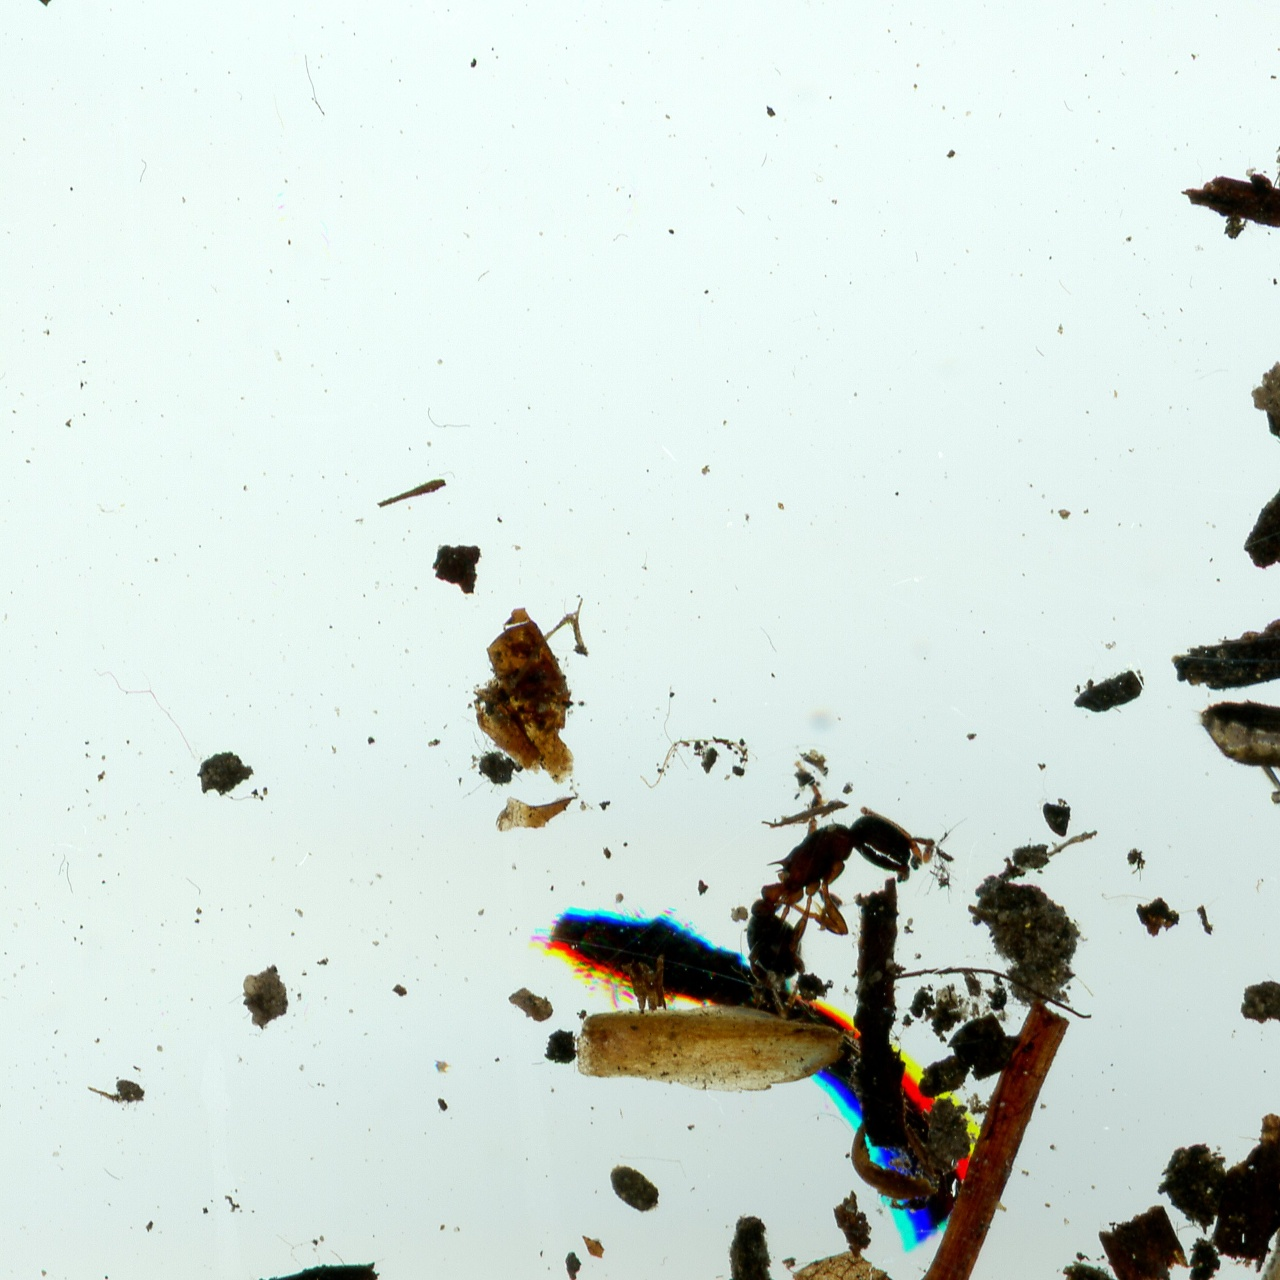arthropod: (693, 763, 948, 1042), (1182, 693, 1280, 837)
